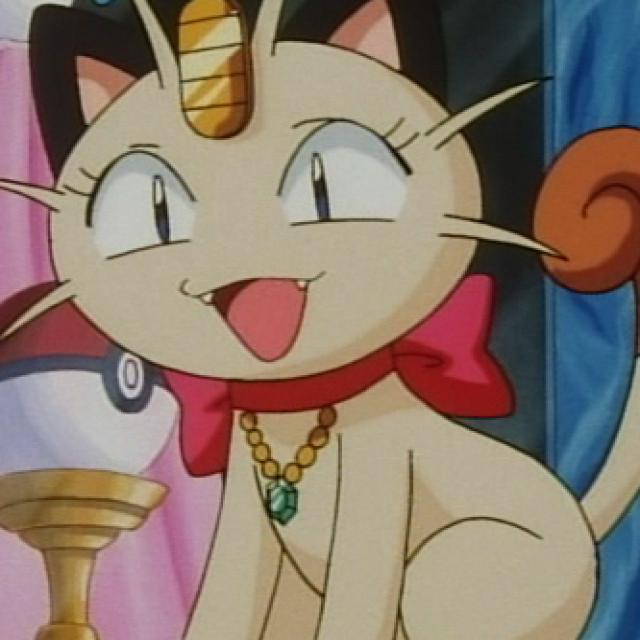Meowth: (40, 2, 600, 640)
